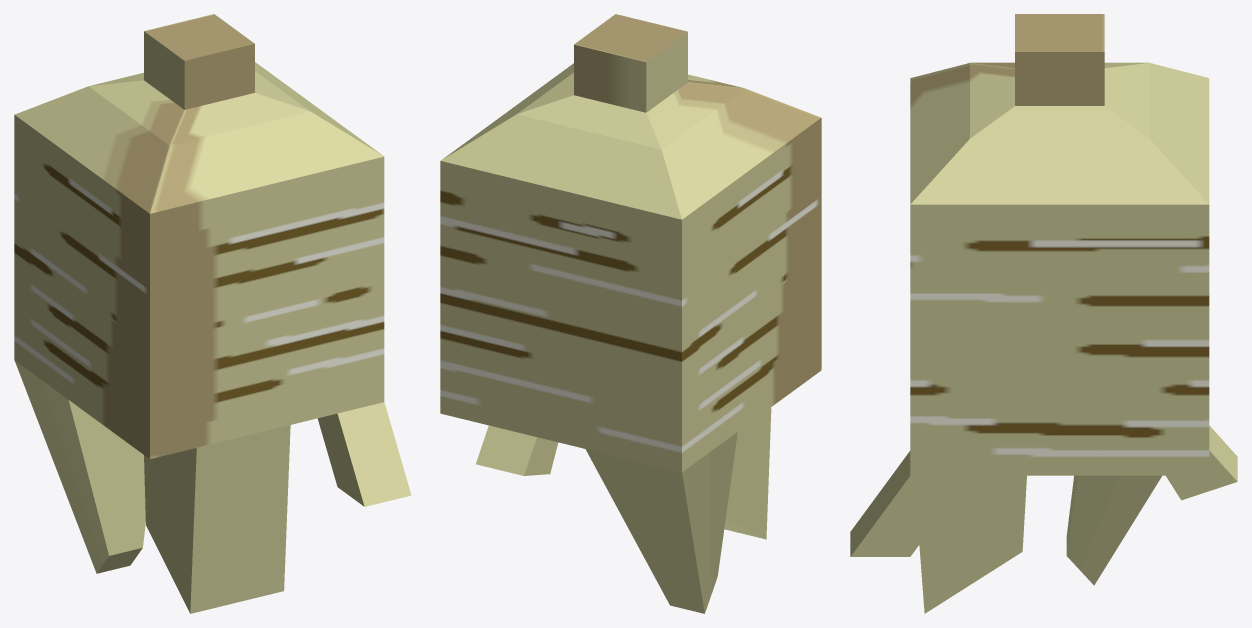
Rendered from mdlBitterRoot.fbx.
3 renders of one model, left to right at view 1: azimuth 30°, elevation 25°; view 2: azimuth 150°, elevation 25°; view 3: azimuth 270°, elevation 25°, orthographic. The views are drawn at different scales.
Visible parts, largest first — view 1: Cube; view 2: Cube; view 3: Cube.
Part boxes in pixels (bbox=[...]): Cube: bbox=[14, 14, 411, 613]; Cube: bbox=[440, 14, 821, 613]; Cube: bbox=[850, 14, 1237, 613].
Bounding box in the file's own units: 200 × 429 × 259.
